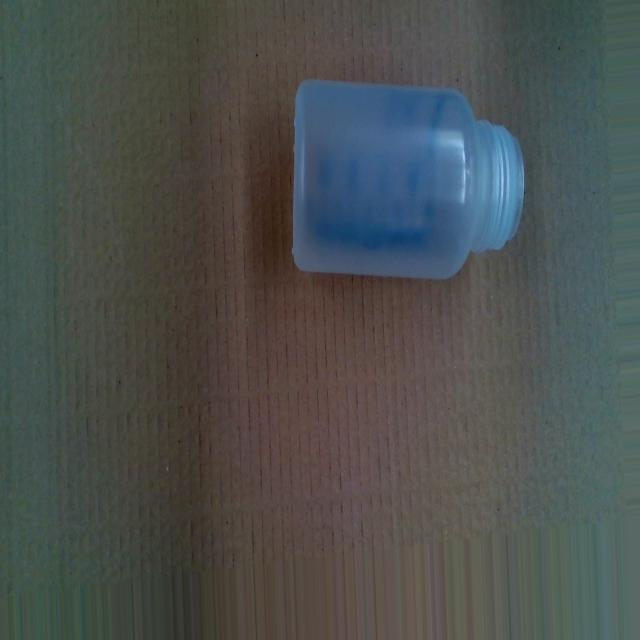bottle: (290, 76, 528, 286)
